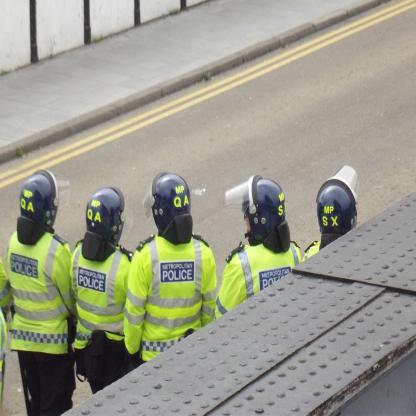Helmet: (222, 173, 292, 250), (139, 172, 195, 248), (15, 168, 70, 244), (314, 163, 360, 252), (74, 189, 122, 259)
